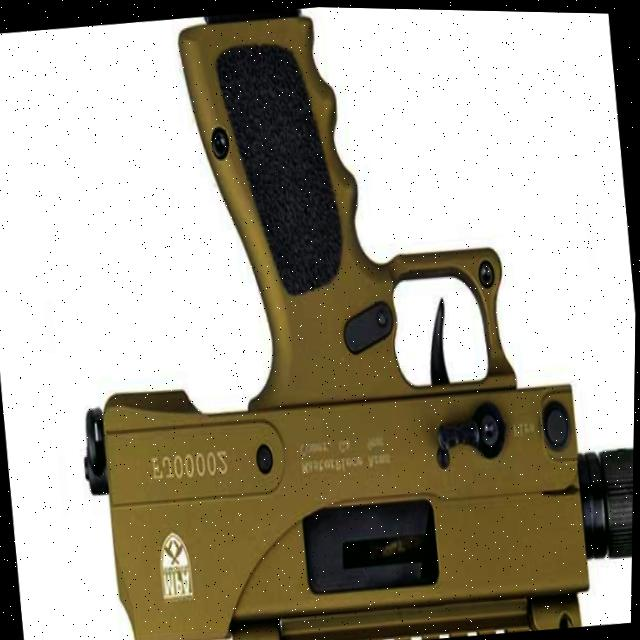pistol: (39, 1, 640, 640)
